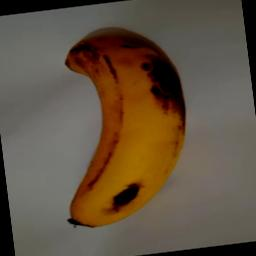Banana Unripe: (42, 20, 200, 234)
